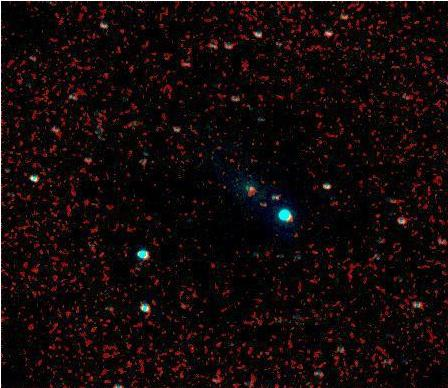star: (233, 171, 263, 201)
